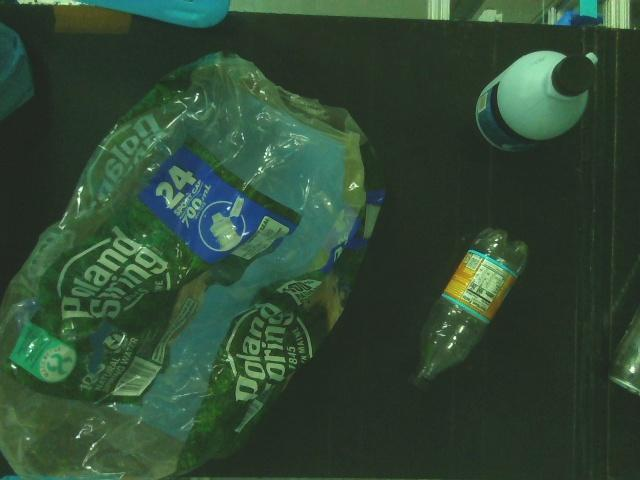metal: (604, 290, 640, 408)
plastic: (0, 49, 390, 480), (404, 223, 534, 397), (470, 46, 604, 158)
